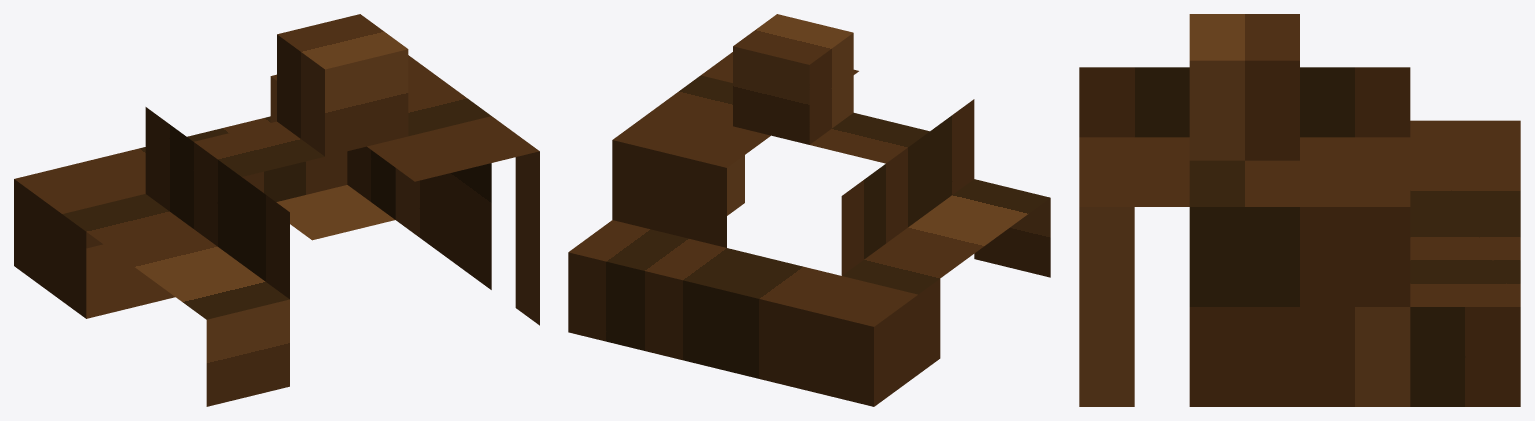
File: PoopOneFixed.dae
The picture shows the model from 3 angles, left to right: view 1: azimuth 30°, elevation 25°; view 2: azimuth 150°, elevation 25°; view 3: azimuth 270°, elevation 25°; orthographic projection. The views are drawn at different scales.
Parts seen in each view (by area): view 1: PoopOne; view 2: PoopOne; view 3: PoopOne.
Boxes of the visible parts, x1,y1,x2,y2 form: PoopOne: (14,14,539,406); PoopOne: (568,14,1050,406); PoopOne: (1079,14,1520,406).
Bounding box in the file's own units: 4 × 3 × 4.
